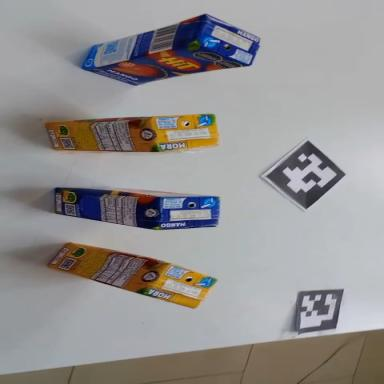HIT-MANGO: (77, 5, 264, 94), (52, 183, 220, 235)
HIT-MORA: (45, 238, 217, 312), (45, 114, 218, 156)
cara_F: (84, 36, 249, 95), (56, 182, 218, 203)
